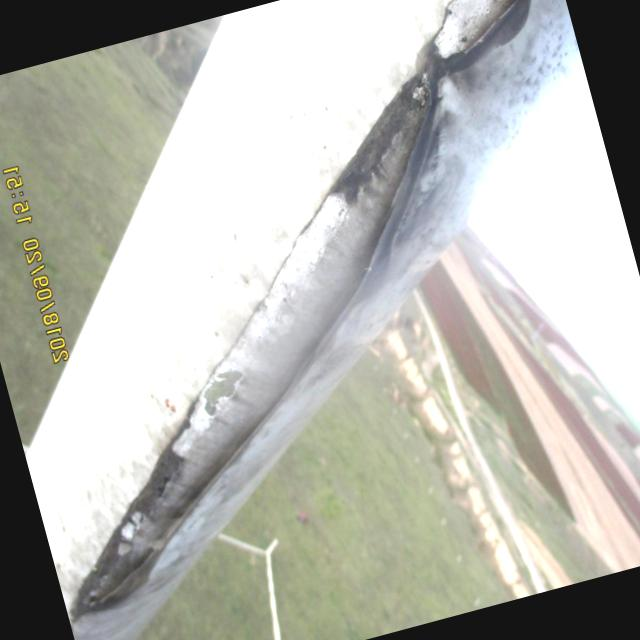crack: (11, 316, 324, 618), (236, 88, 479, 344), (405, 0, 566, 78)
